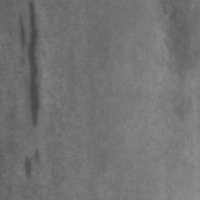inclusion: (15, 1, 45, 131), (22, 143, 45, 181)
